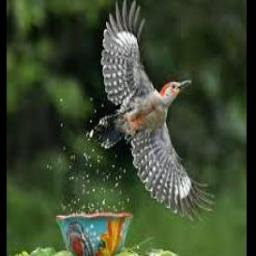Woodpecker: (92, 0, 215, 218)
